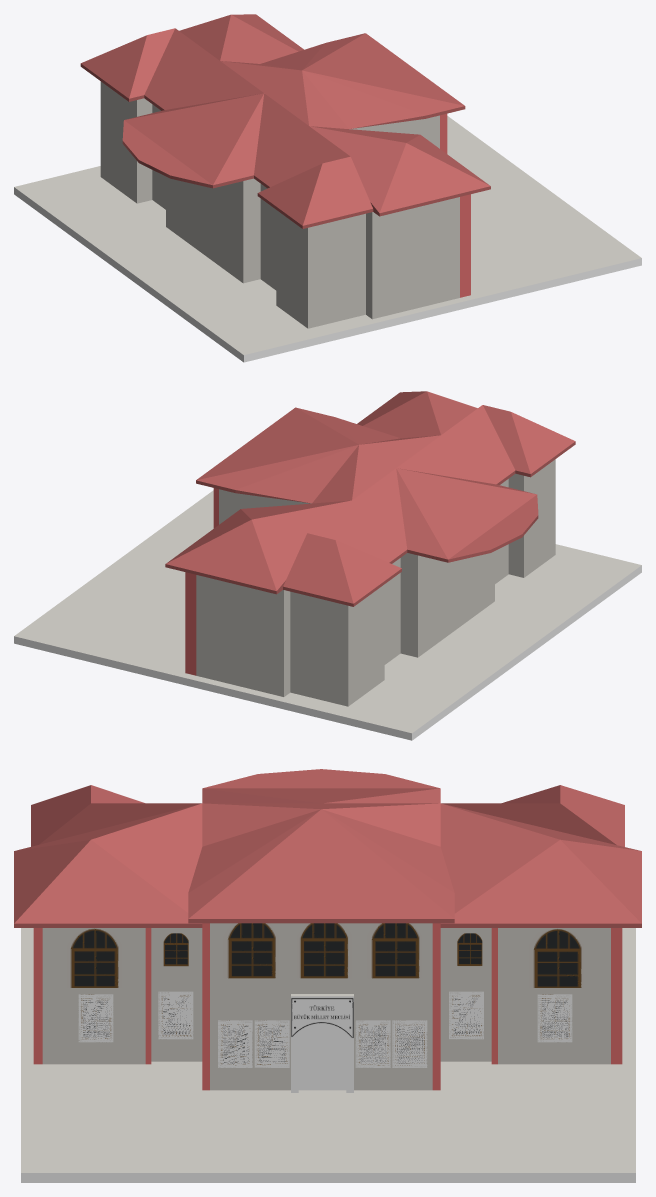
File: birinci_meclis.dae
3 renders of one model, top to bottom at view 1: azimuth 30°, elevation 25°; view 2: azimuth 150°, elevation 25°; view 3: azimuth 270°, elevation 25°, orthographic. The views are drawn at different scales.
Visible parts, largest first — view 1: group_0 (×6); view 2: group_0 (×6); view 3: group_0 (×31).
Boxes of the visible parts, box(x1,y1,x2,y2) form: group_0 (×6): box(14, 14, 641, 362); group_0 (×6): box(14, 391, 641, 740); group_0 (×31): box(14, 769, 641, 1182).
Size of the model in its own units: 402 by 410 by 162.
Materials: 9 (8 with a texture image).
